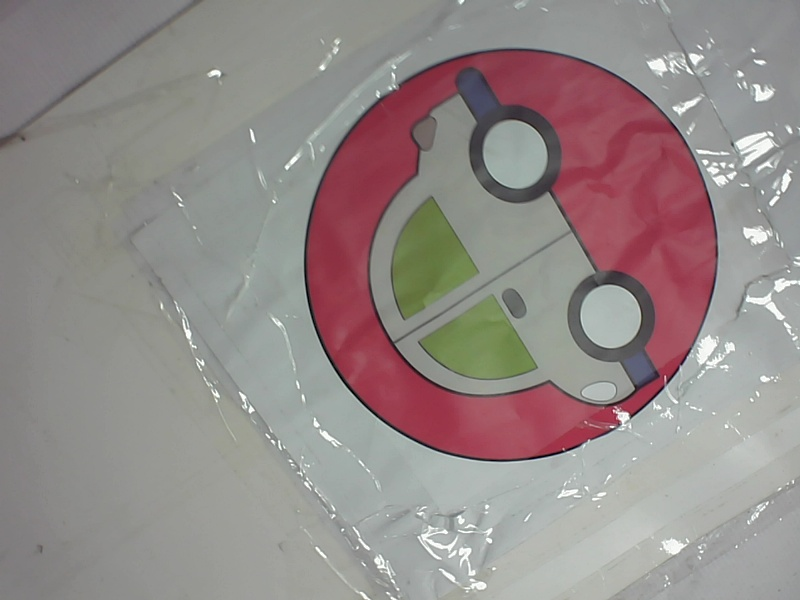areaC: (286, 51, 731, 466)
